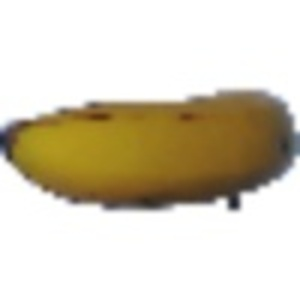banana: (1, 74, 297, 216)
